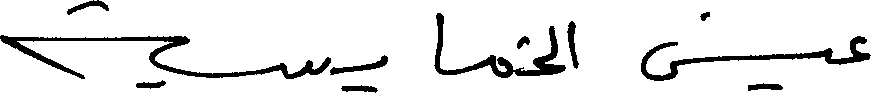ا: (430, 10, 442, 75), (564, 19, 579, 69)
ة: (0, 0, 186, 90)
خ: (515, 37, 565, 74)
س: (279, 54, 329, 78)
ع: (851, 34, 869, 64)
ل: (537, 24, 563, 62)
م: (490, 52, 510, 78)
ن: (639, 14, 712, 81)
ي: (742, 46, 838, 92), (340, 53, 387, 92)
